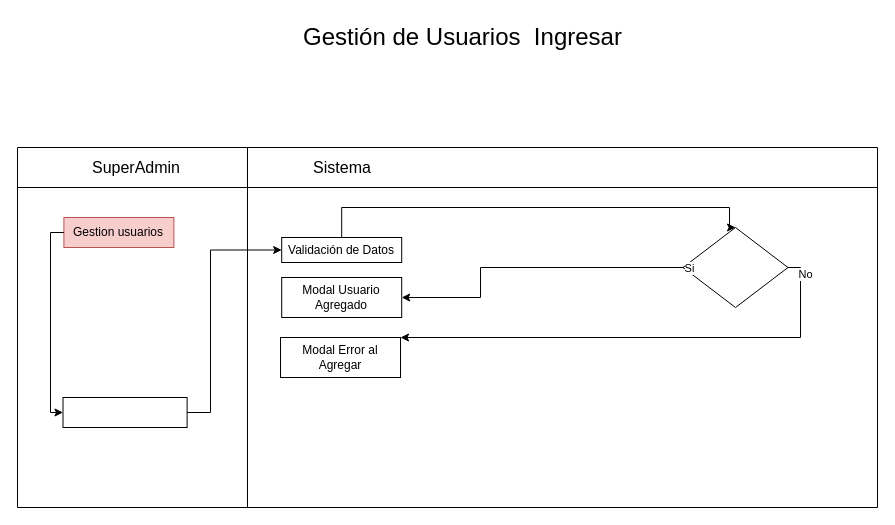
Some shapes in this 895 by 525 pixel diagram are drawn without their labels. The centre of each missing label's shape, as x and y in pixels:
"Guardado de Datos" goes at [735,267].
"Ingresar Usuario" goes at [124,412].
